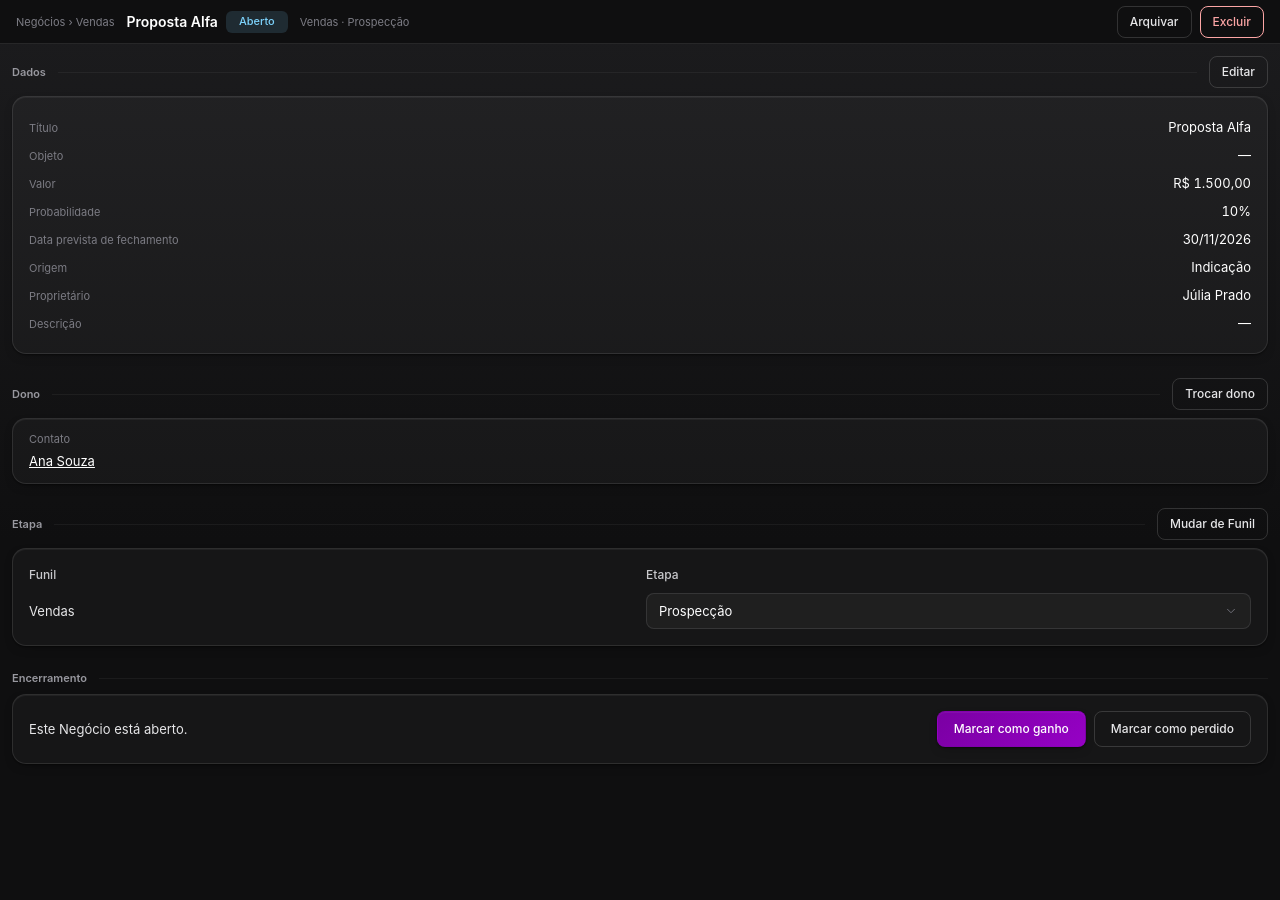
Scenario: FichaDeNegocio — Etapa e Funil (b) › (b) uma recusa da api ao mover aparece como Toast e a Etapa fica como estava
Click the dropdown named "Etapa": click(696, 611) 646,593 -> 1251,629
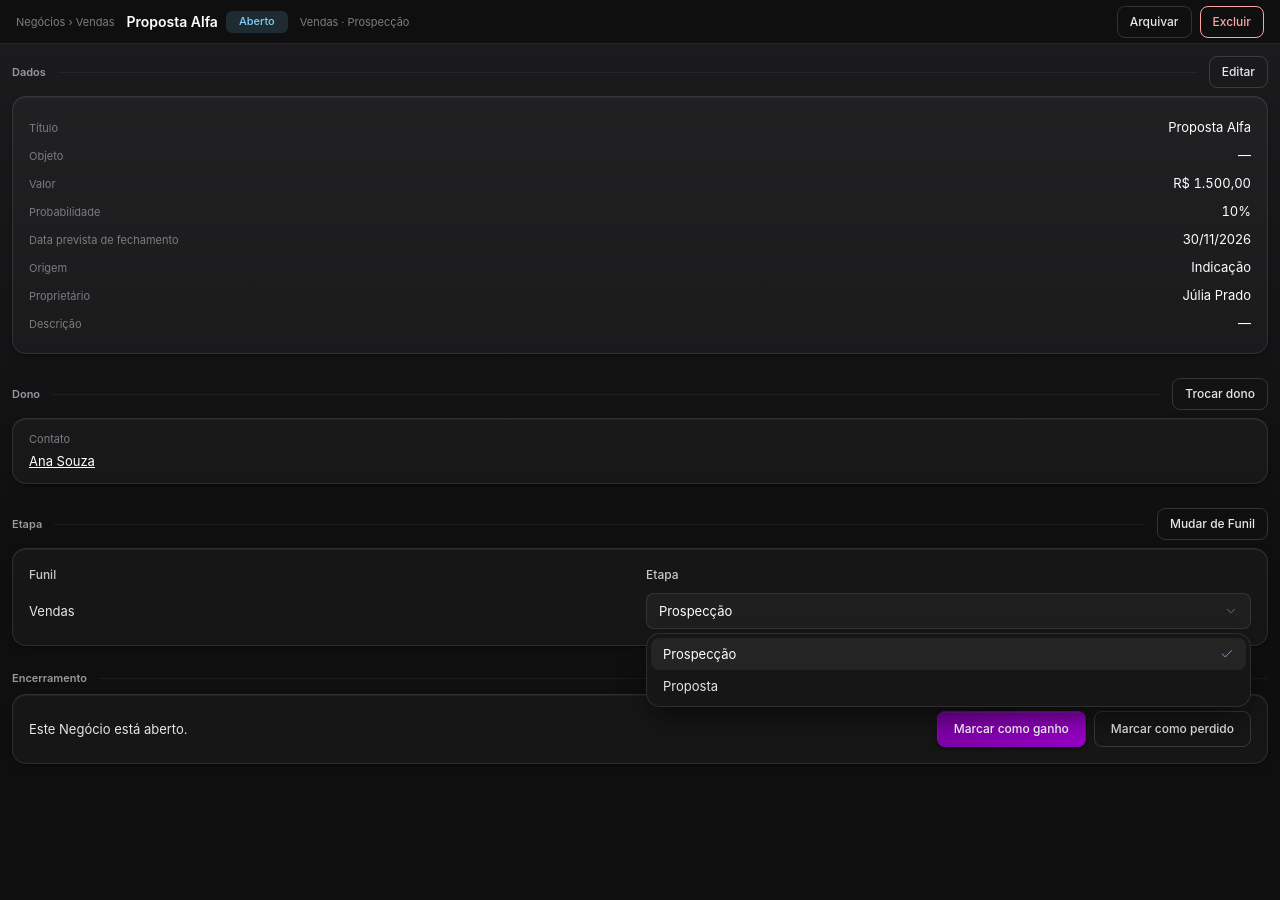
Click the option "Proposta": click(691, 686) 651,670 -> 1246,702
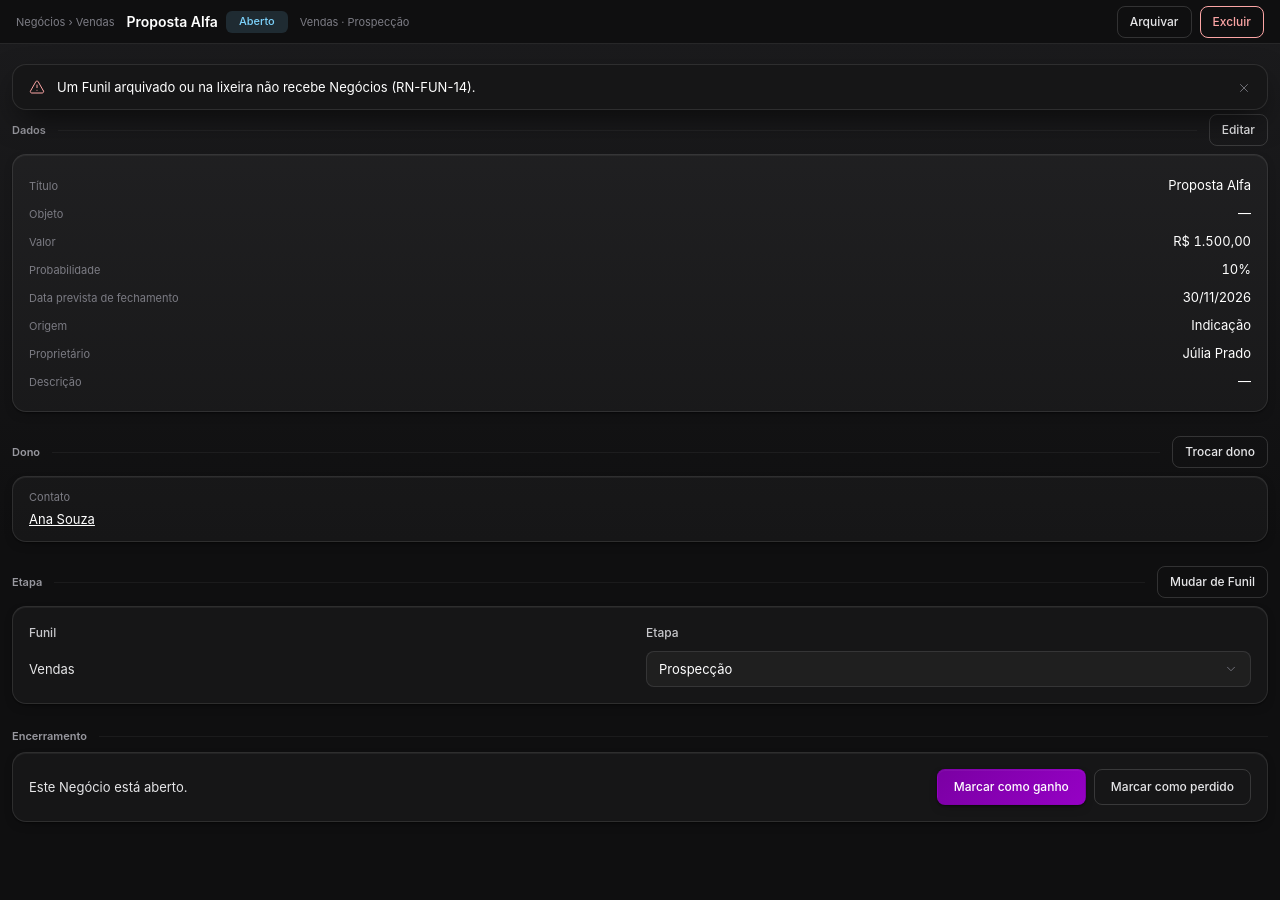
Expected: the dropdown named "Etapa" reads "Prospecção", 646,651 -> 1251,687
Expected: the text "não recebe Negócios" is shown, 57,79 -> 476,95
